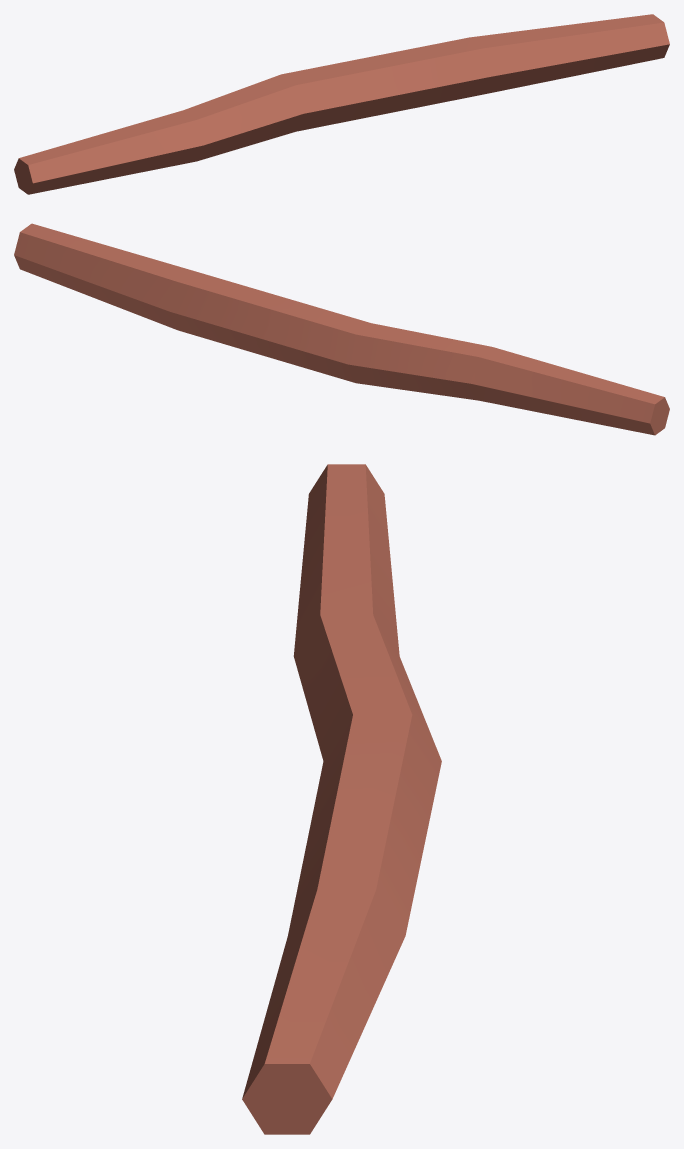
File: wood_pickup_2_v1.fbx
3 views of the same model, one above another, from view 1: azimuth 30°, elevation 25°; view 2: azimuth 150°, elevation 25°; view 3: azimuth 270°, elevation 25° (orthographic). The views are drawn at different scales.
Parts seen in each view (by area): view 1: wood_pickup_2; view 2: wood_pickup_2; view 3: wood_pickup_2.
Part boxes in pixels (x1,y1,x2,y2): wood_pickup_2: (14, 14, 669, 194); wood_pickup_2: (14, 223, 669, 435); wood_pickup_2: (242, 464, 441, 1134).
Size of the model in its own units: 1.74 by 0.1244 by 0.2424.
